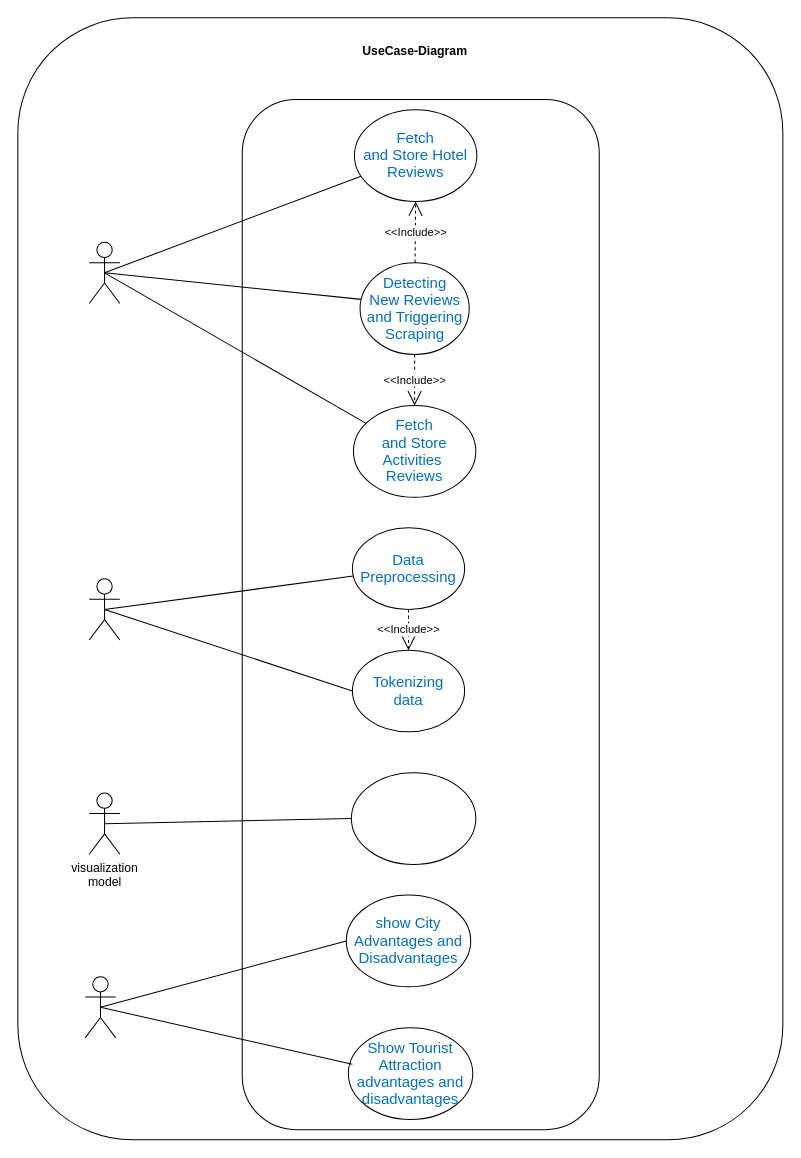
This 801x1158 diagram has some shape labels left out. Here are the shapes that lost their labels. From the top down, the centre of each, then its label:
At (x=104, y=272): "Scrapping Model".
At (x=104, y=609): "NLP Model".
At (x=413, y=818): "Apply analytics technique".
At (x=100, y=1007): "Web application".
